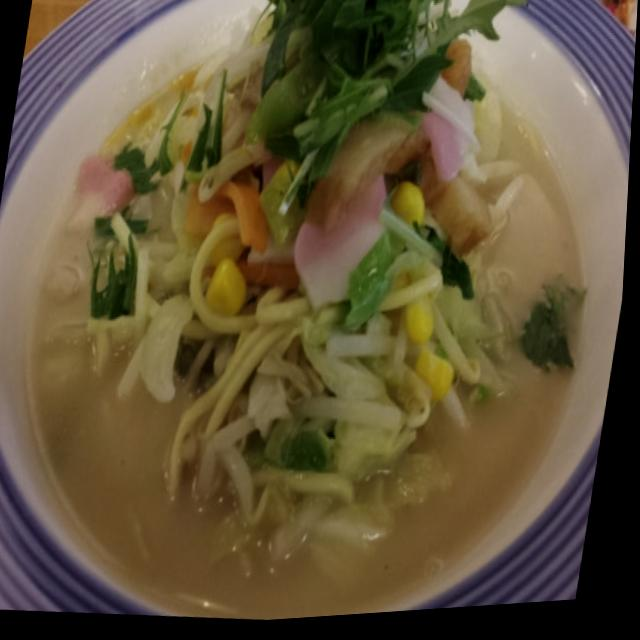带馅早点: (64, 0, 640, 635)
